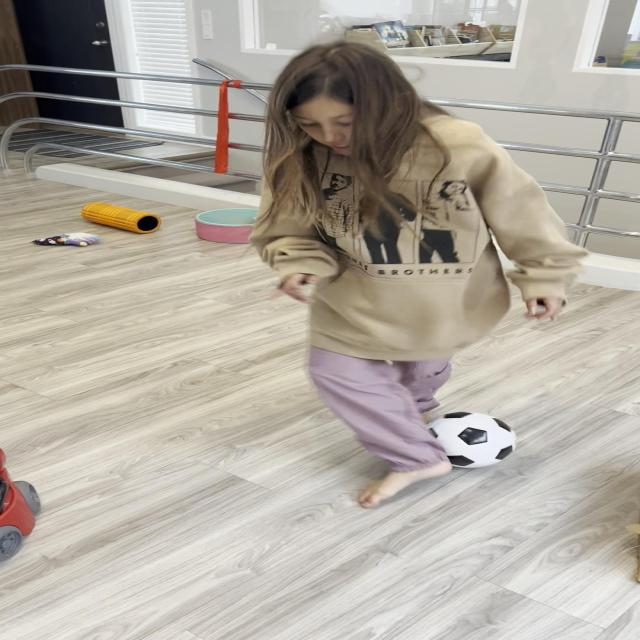Soccer Ball: (416, 411, 516, 467)
